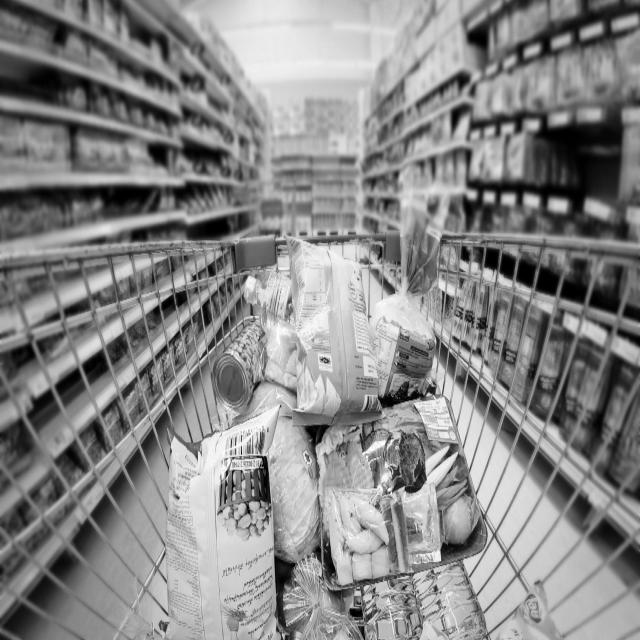apple: (280, 552, 351, 626)
bap cai: (263, 421, 321, 563)
bread: (380, 191, 460, 404)
oil: (242, 272, 301, 322)
